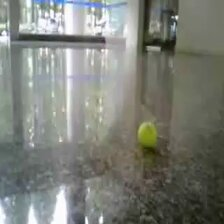tennis: (137, 122, 157, 146)
